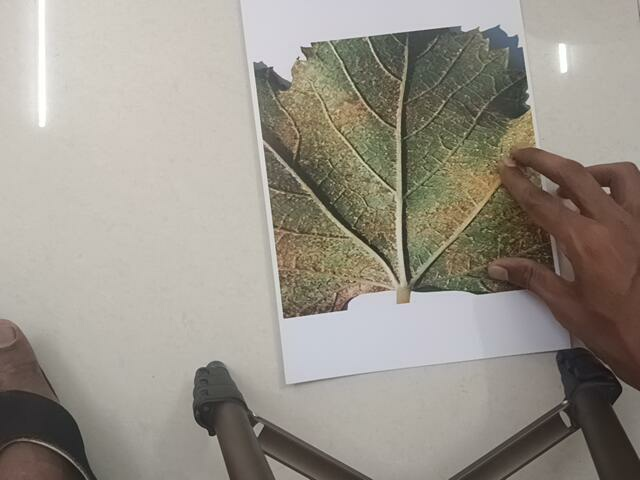Grape_Rust_Fungus: (248, 28, 505, 295)
